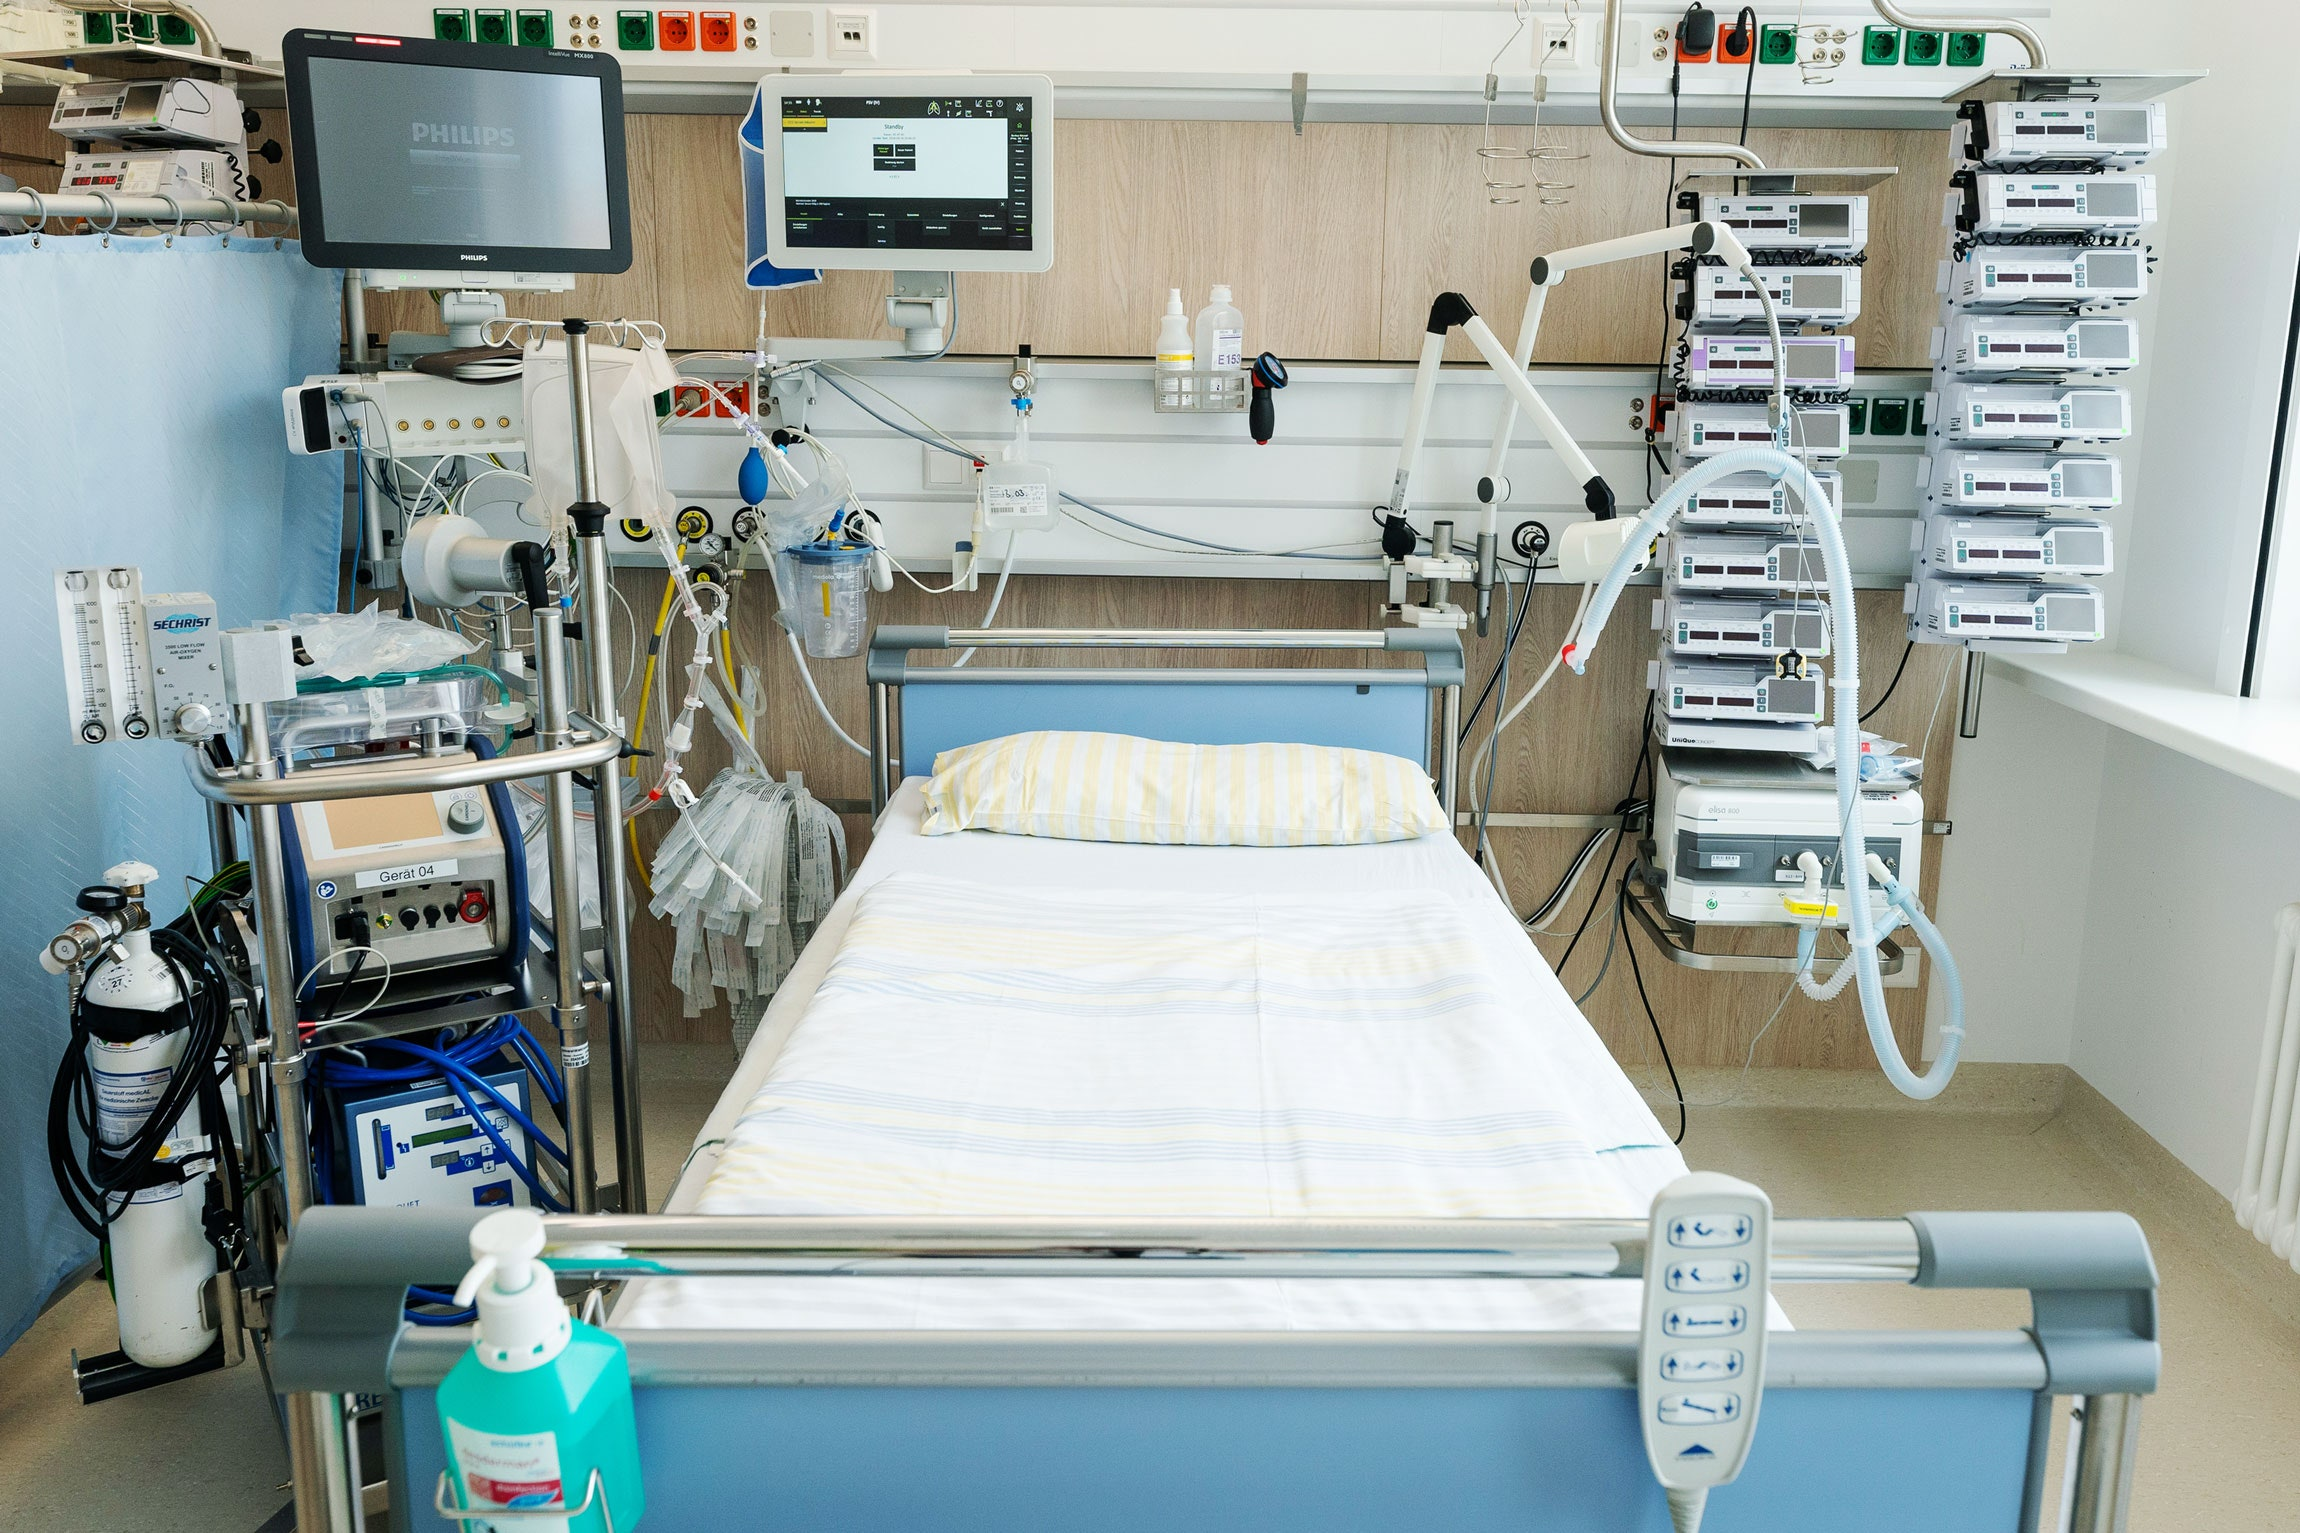bedside_monitor: (282, 22, 633, 289), (763, 82, 1052, 263)
breathing_tube: (1565, 447, 1965, 1100)
curtain: (2, 234, 345, 1360)
dispenser: (416, 1206, 653, 1530)
foot_board: (270, 1169, 2160, 1531)
hospital_bed: (280, 626, 2168, 1533)
iv_pole: (475, 313, 681, 1216)
syringe_pump: (50, 147, 248, 219), (50, 77, 248, 149), (1939, 234, 2144, 303), (1931, 382, 2134, 448), (1922, 512, 2114, 582), (1955, 104, 2167, 164), (1676, 192, 1871, 257), (1671, 258, 1864, 323), (1932, 315, 2141, 375), (1946, 173, 2160, 229), (1924, 589, 2105, 650), (1657, 530, 1837, 592), (1654, 664, 1825, 727), (1666, 400, 1850, 459), (1669, 335, 1859, 392), (1657, 471, 1845, 527), (1919, 459, 2119, 512), (1648, 601, 1828, 659)
ventilator: (1643, 760, 1943, 1020)
